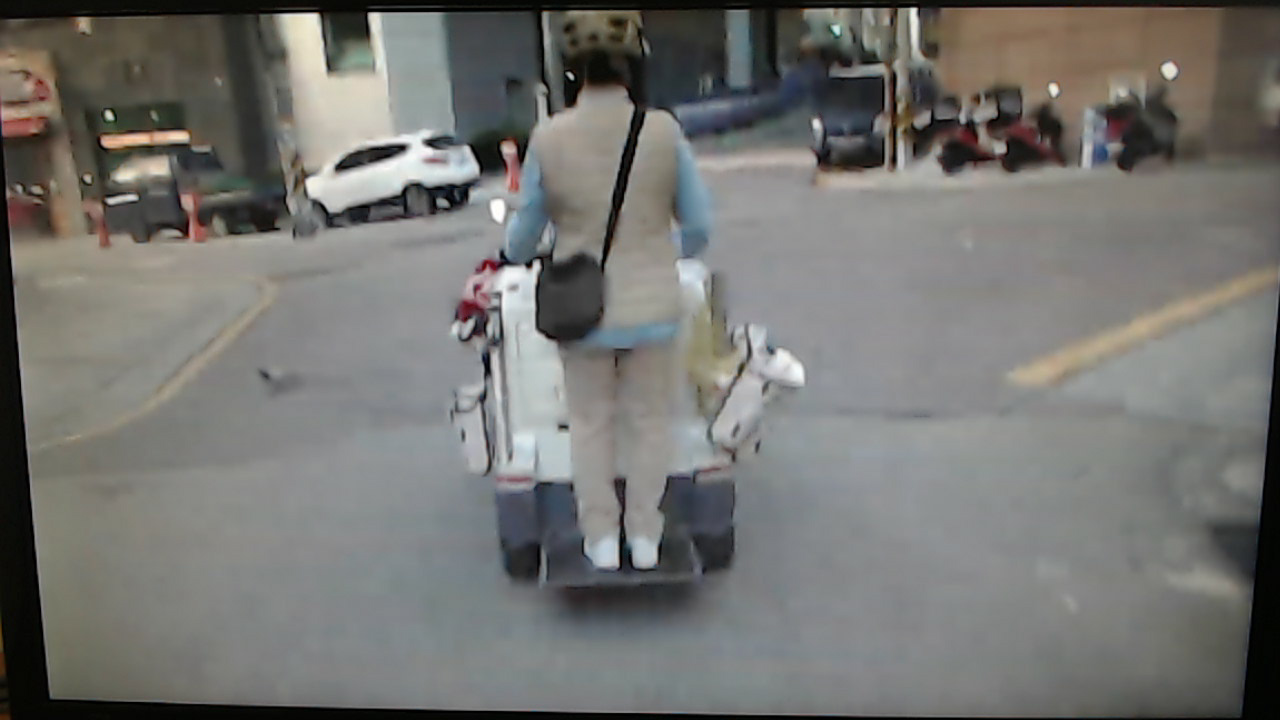Yakurut: (495, 11, 746, 582)
